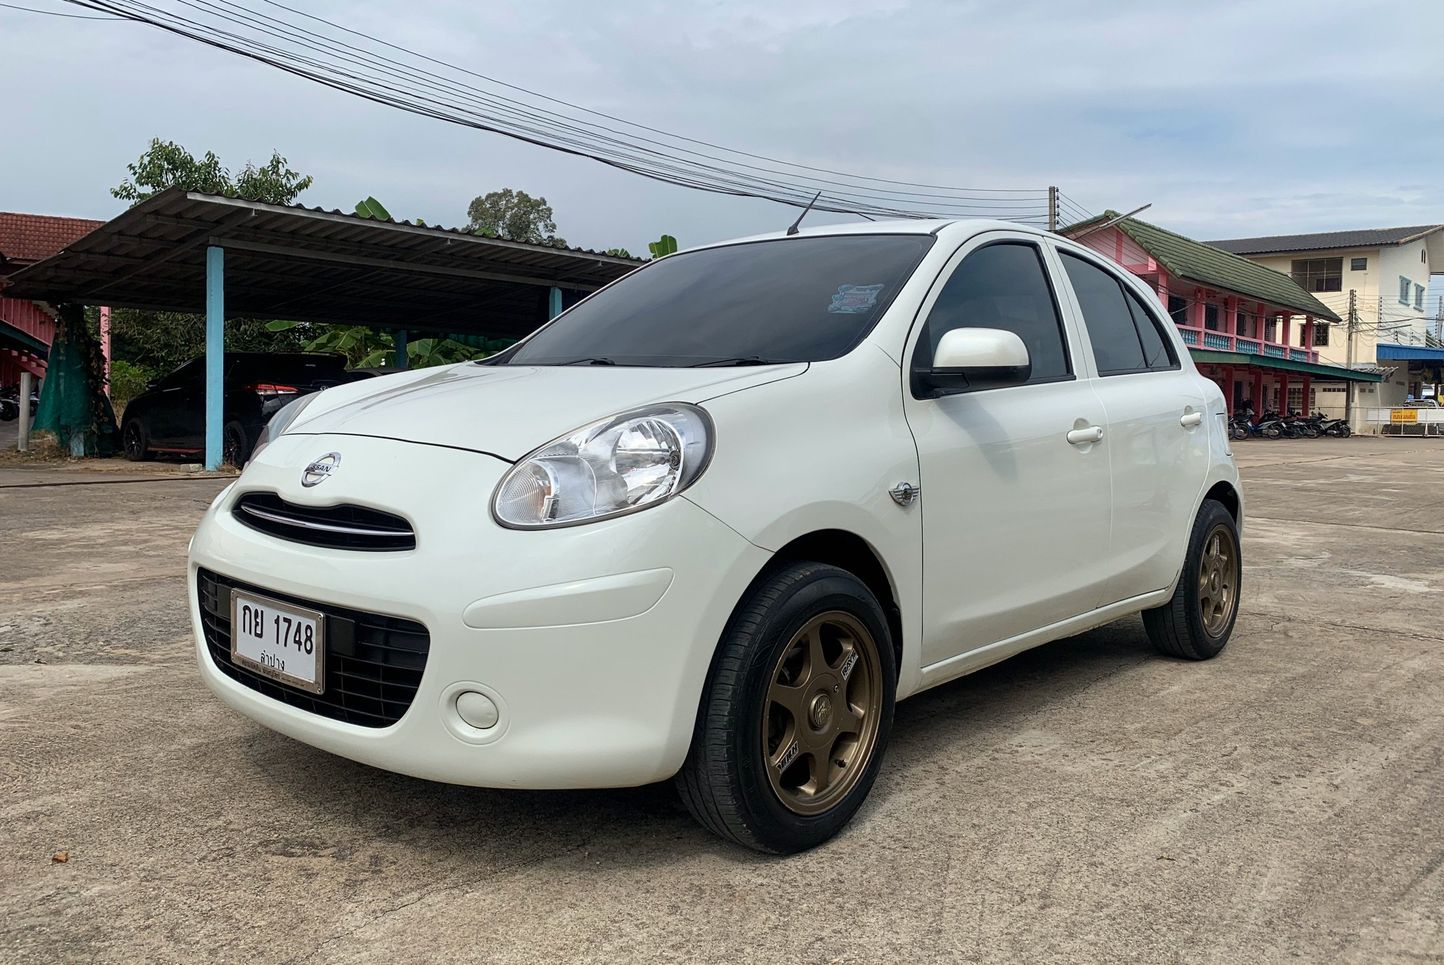sedan: (178, 219, 1246, 852)
